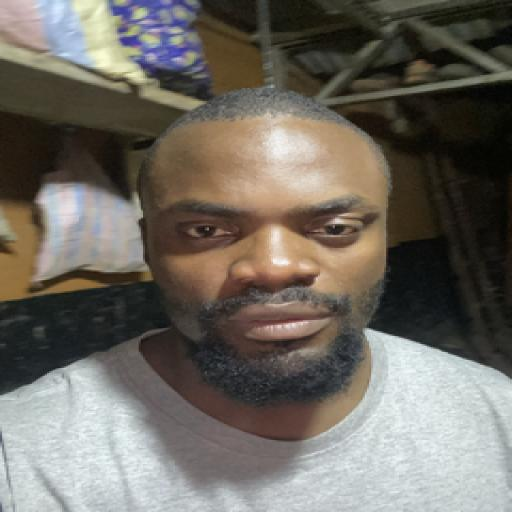JEANLUC: (148, 88, 395, 422)
